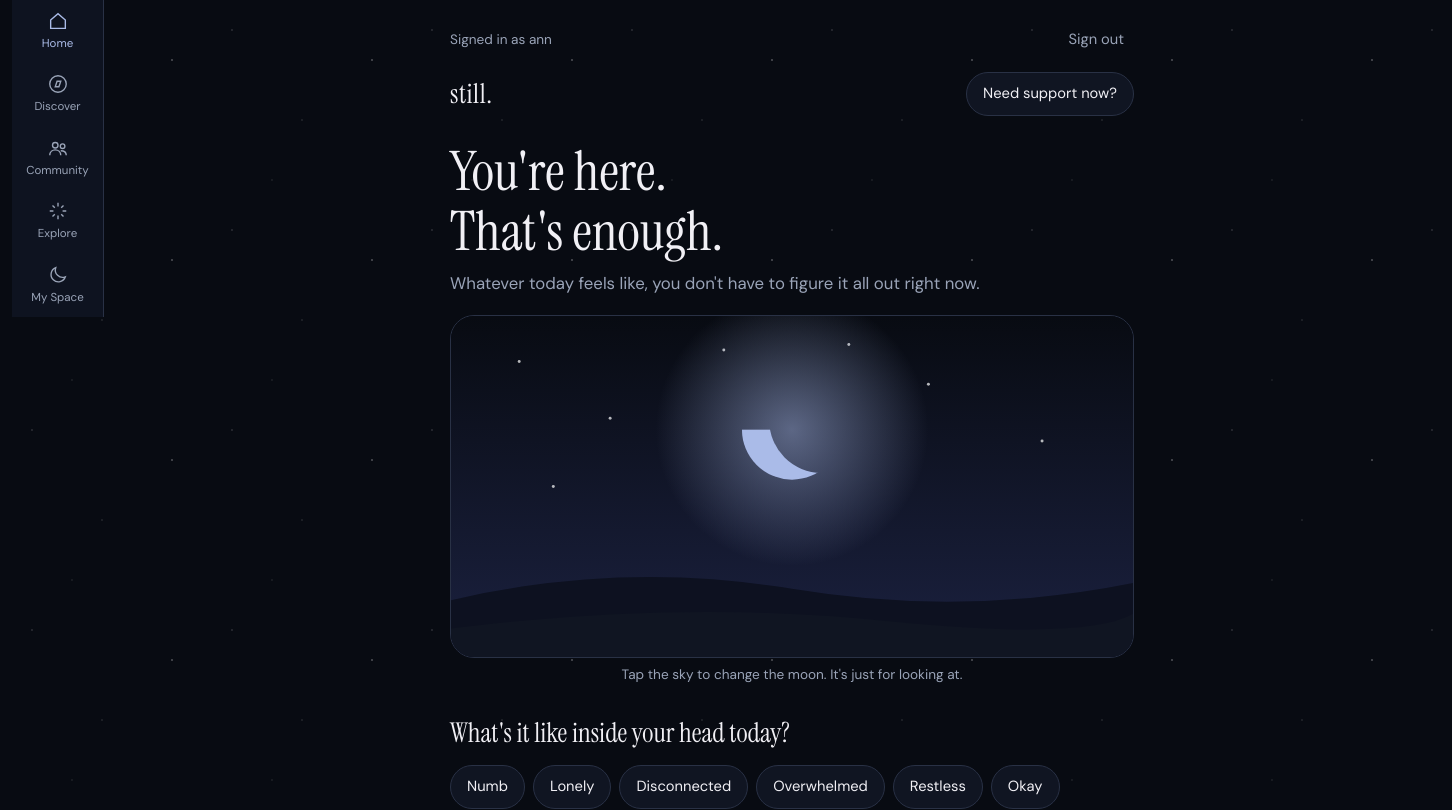
Test: community: posting reloads from the server; rate limiting keeps the draft and says so
This screenshot has width=1452, height=810.
Expected: the text "Signed in as ann" is shown, 450,29 -> 552,51
Click the button "Community" at x=58, y=158, box 12,127 -> 103,190
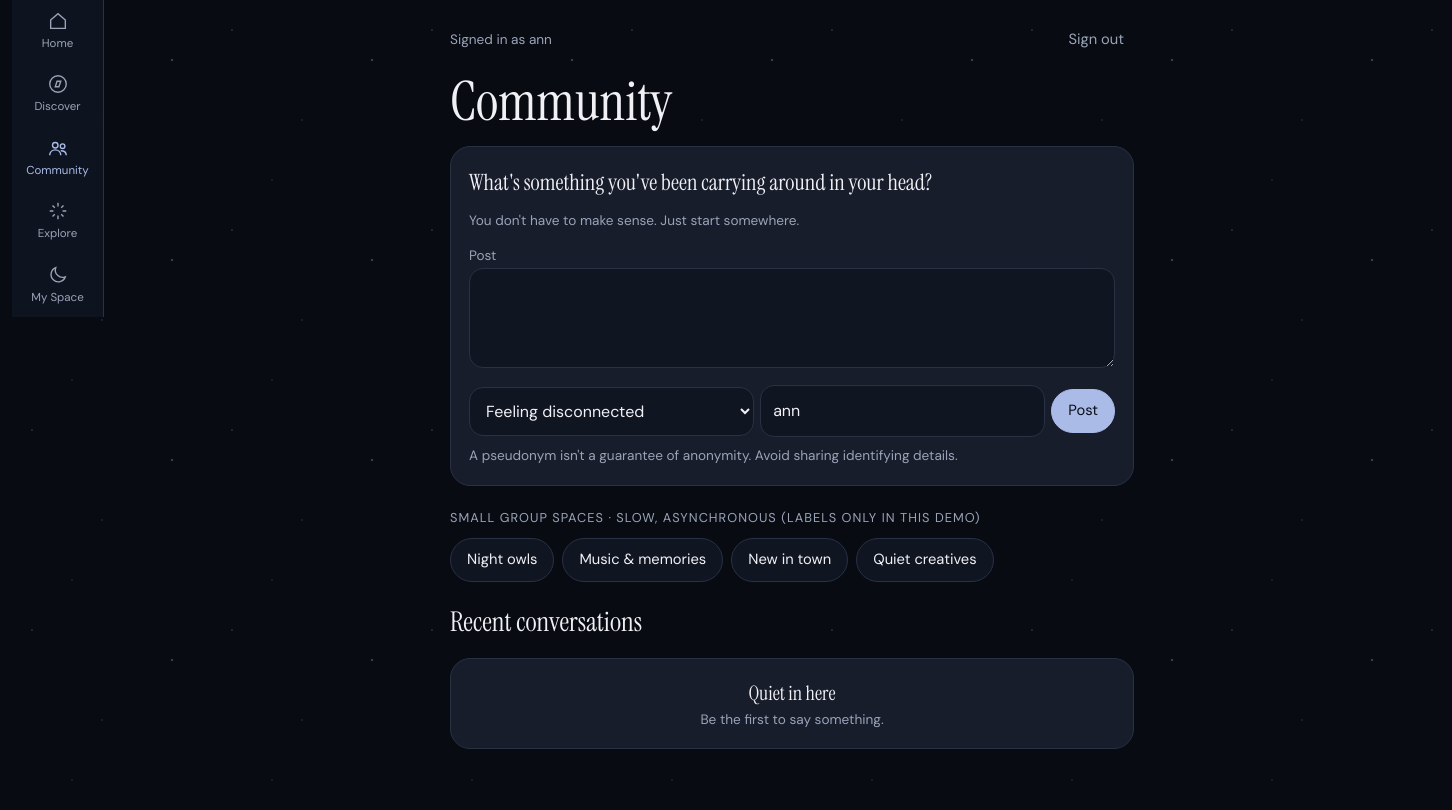
Type "a real thought" into the text box labelled "Post" at x=792, y=318, box 469,268 -> 1115,368
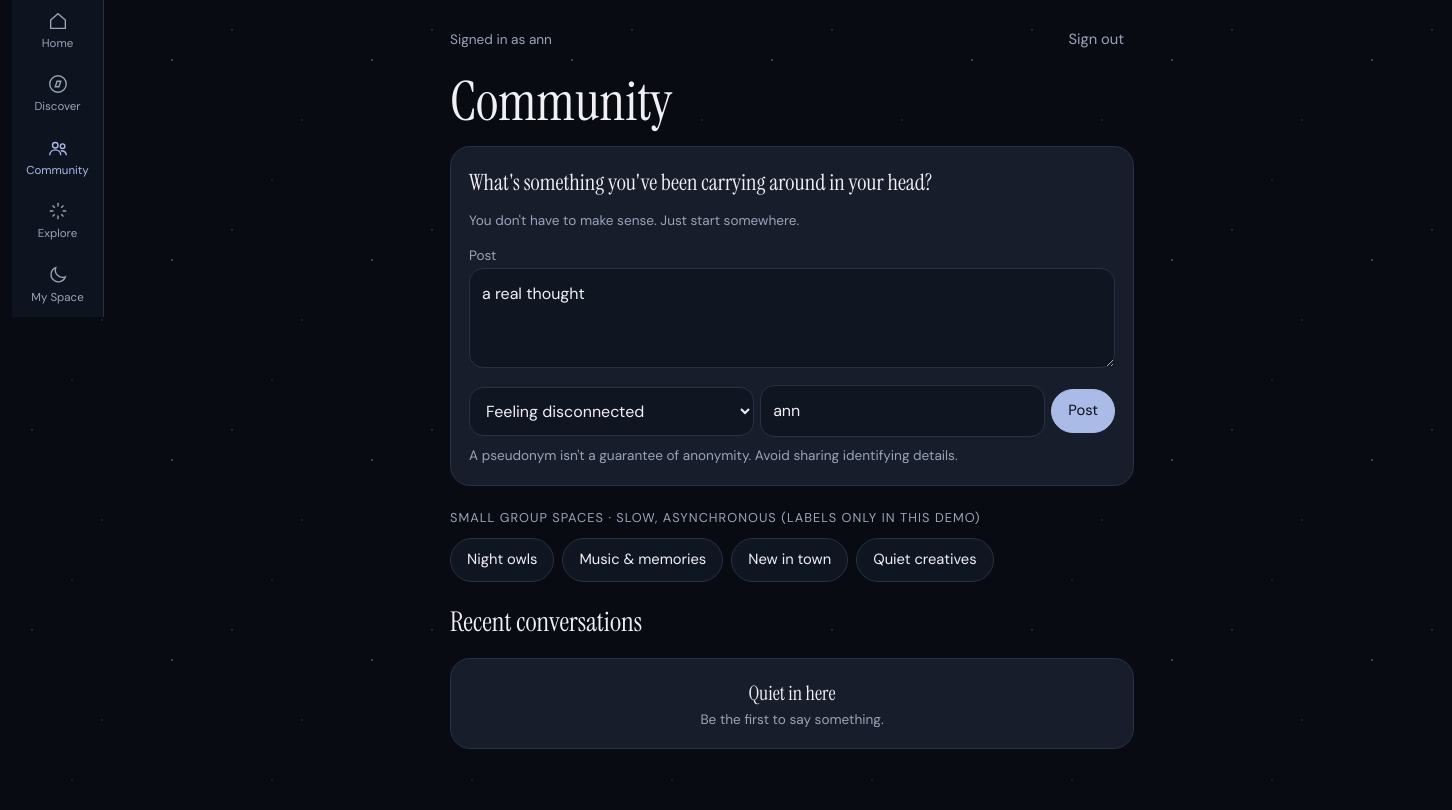
Click the button "Post" at x=1083, y=411, box 1051,389 -> 1115,433
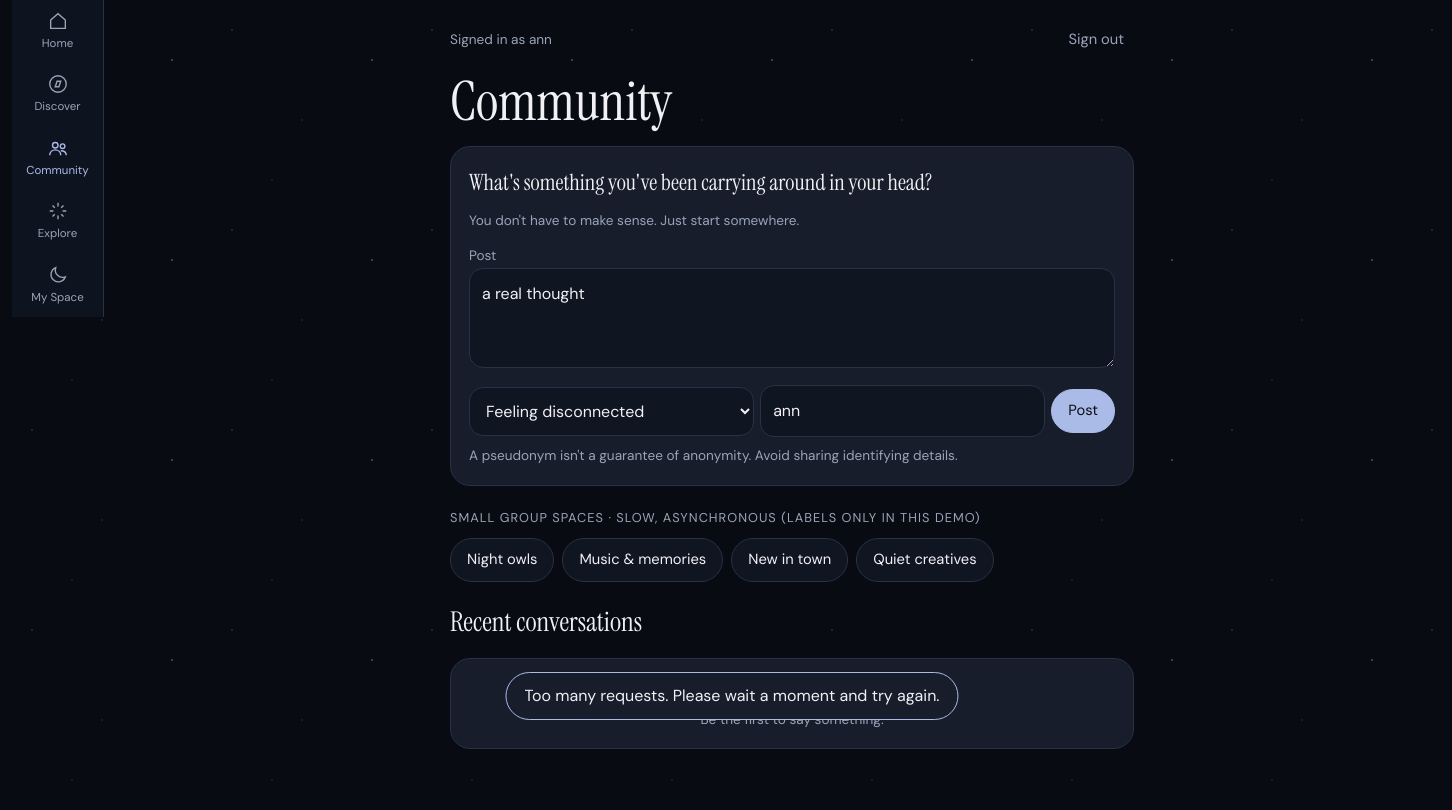
Now the text "Too many requests. Please wait a moment and try again." is shown, box 506,672 -> 958,720
Click the button "Post" at x=1083, y=411, box 1051,389 -> 1115,433
(page scrolled)
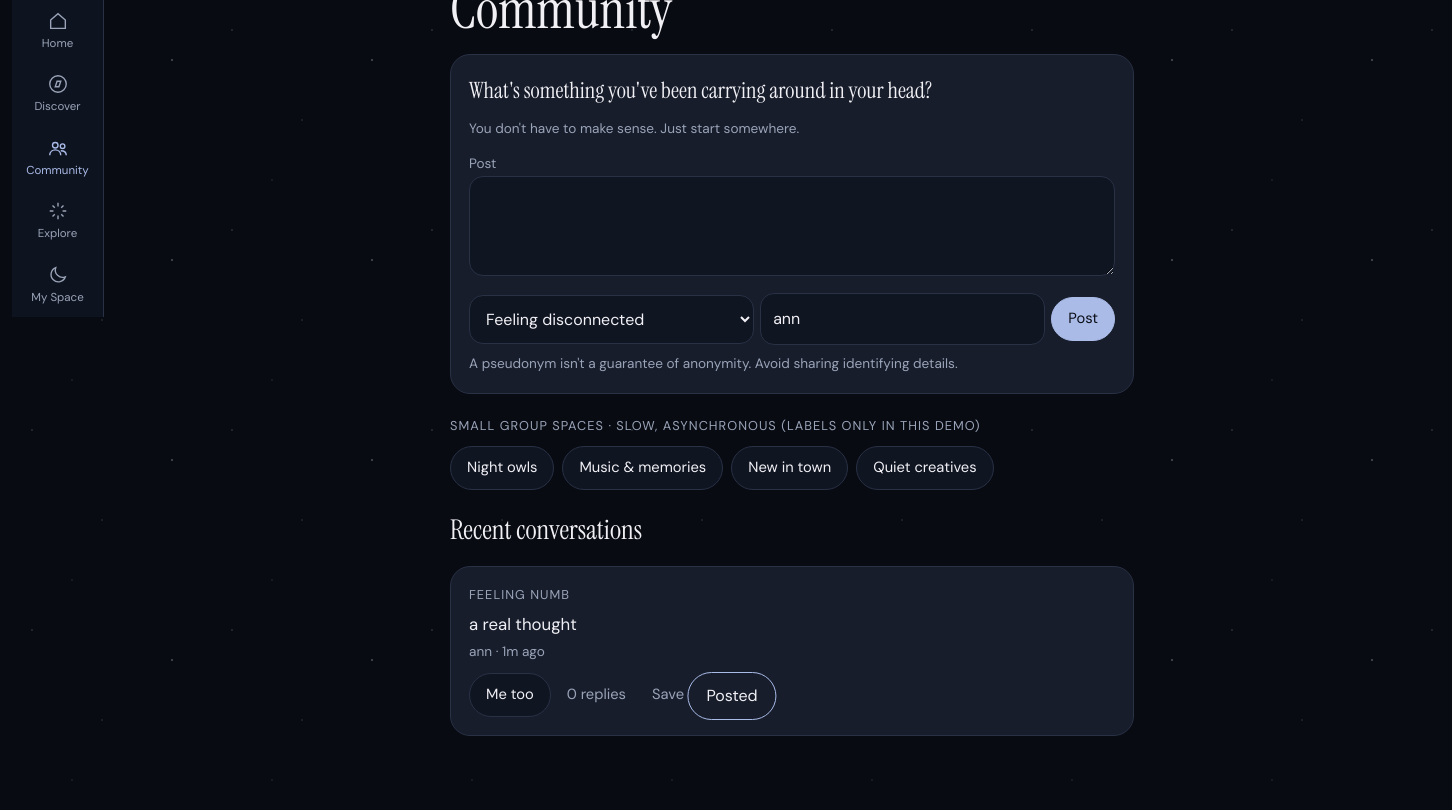
Now the element that starts with "Feeling numb" shows "a real thought", box 469,613 -> 577,635
